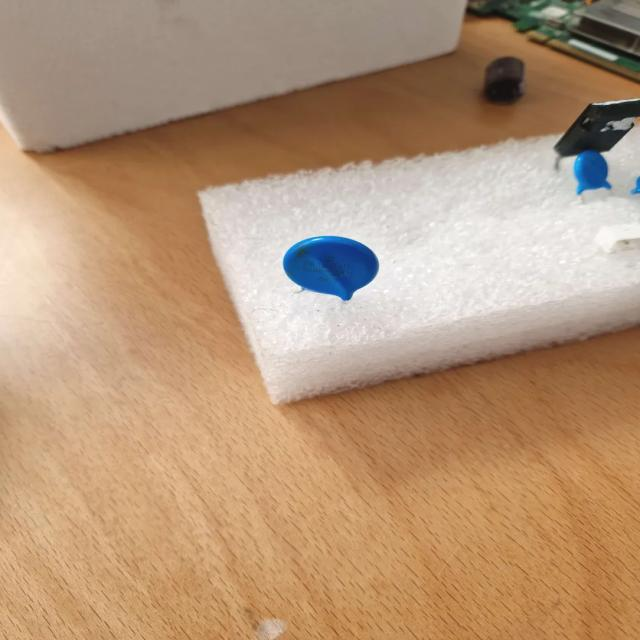C: (482, 56, 525, 105)
E: (282, 238, 378, 304), (574, 152, 612, 198), (633, 173, 640, 197)
